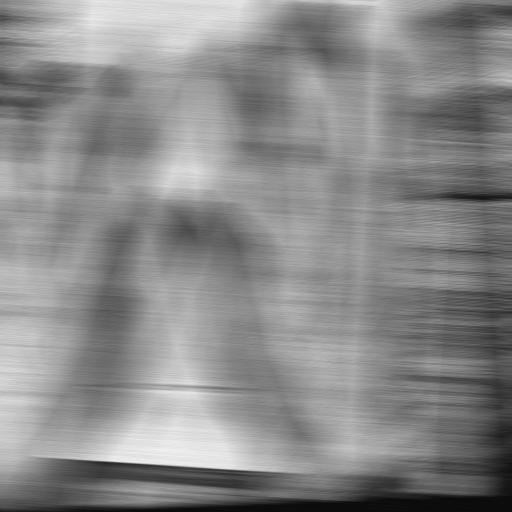bottom_left: (371, 456, 401, 469)
bottom_right: (0, 439, 20, 455)
envelop: (45, 3, 357, 424)
